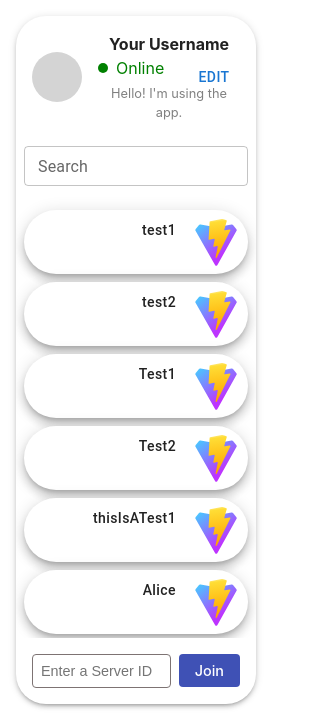
Test: ServerList Component › Search filters servers returned
Type "Alice" into the search field labelled "Search" at {"x": 136, "y": 166}, box [24,146,248,186]
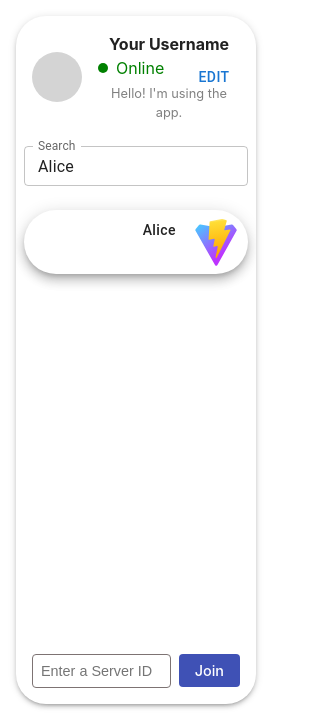
Expected: the button "test1" is gone
Expected: the button "test2" is gone
Expected: the button "thisIsATest1" is gone
